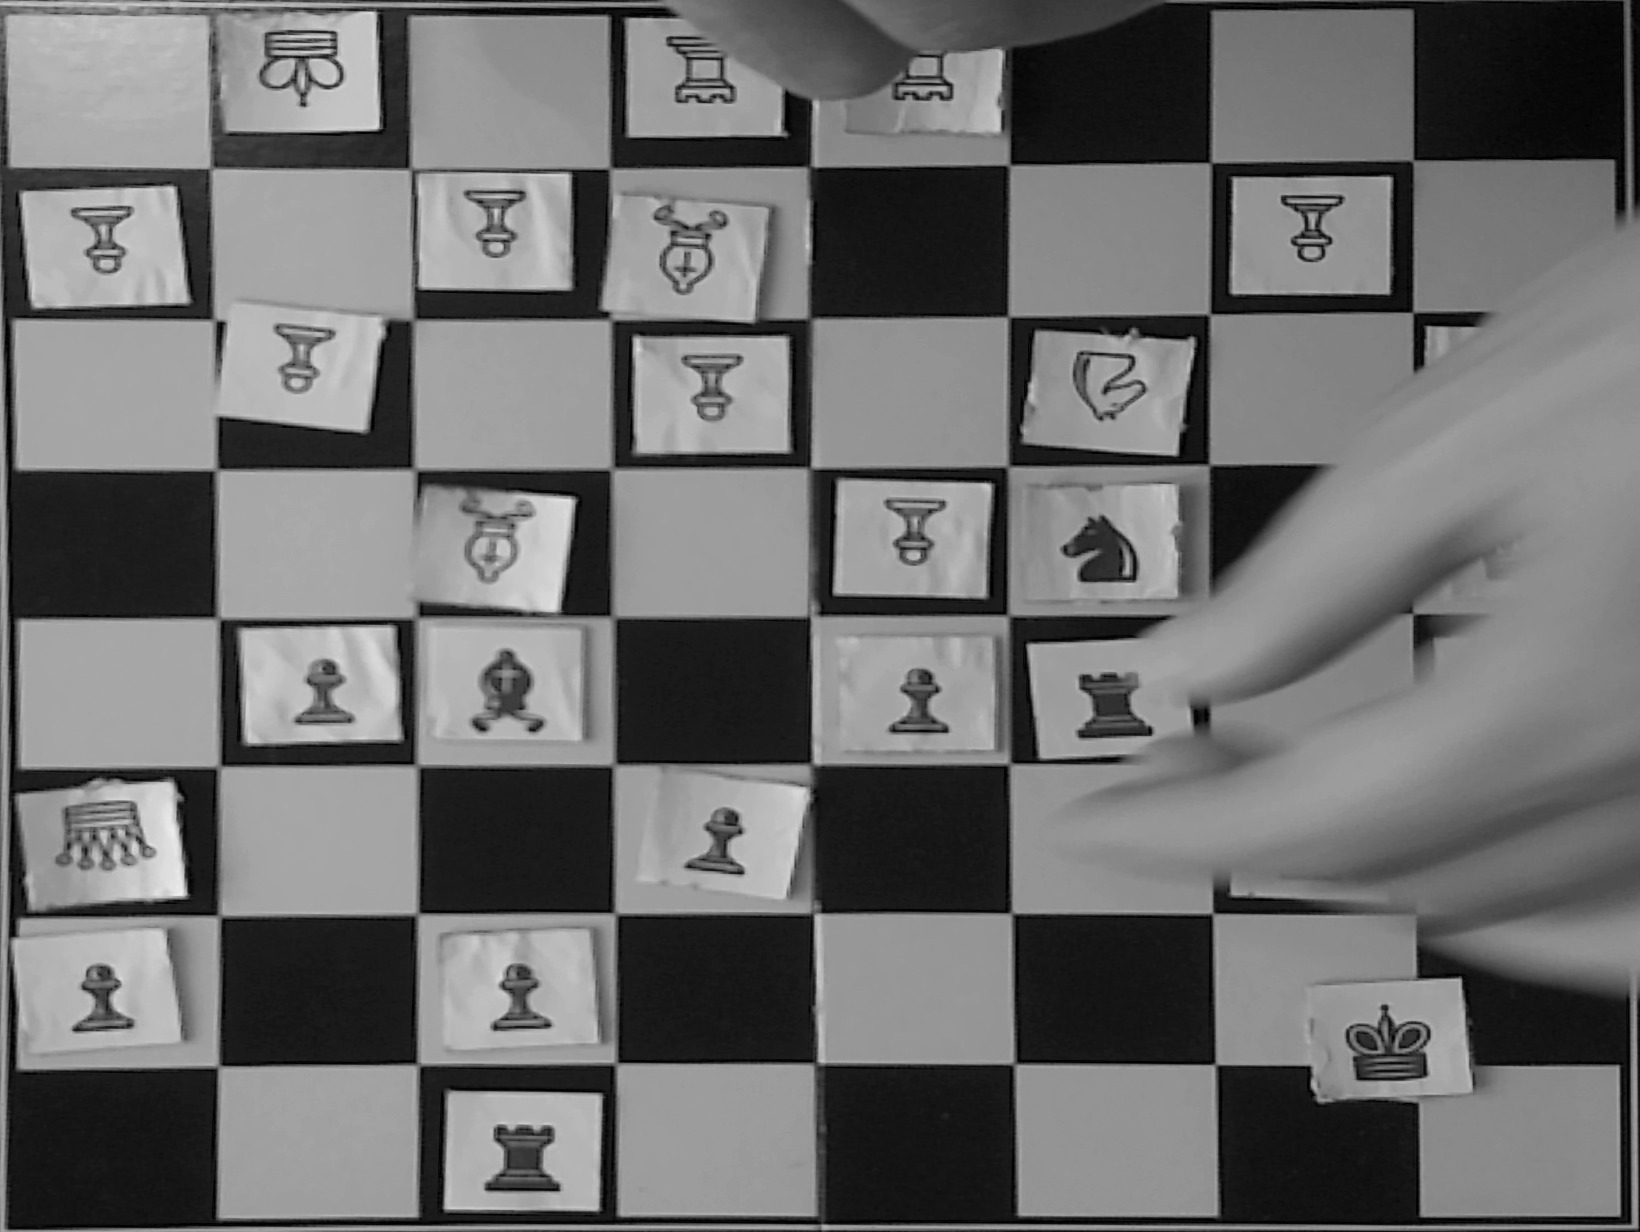b_bishop: (434, 626, 577, 742)
b_king: (1319, 990, 1460, 1092)
b_knight: (1030, 490, 1171, 598)
b_pawn: (465, 937, 582, 1042), (258, 632, 375, 735), (652, 780, 769, 884)
b_rook: (460, 1094, 602, 1200)
w_bishop: (432, 492, 560, 608), (623, 201, 756, 307)
w_king: (223, 14, 375, 127)
w_knight: (1028, 336, 1170, 445)
w_pawn: (428, 171, 557, 273), (859, 480, 986, 582), (245, 311, 361, 413)
w_queen: (28, 796, 170, 889)
